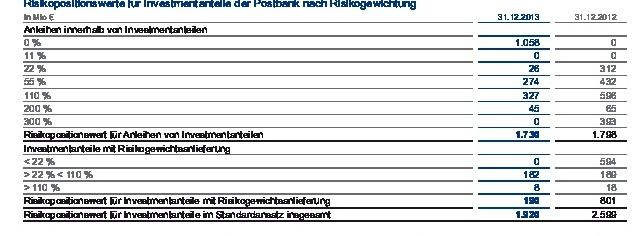table: (0, 0, 641, 236)
